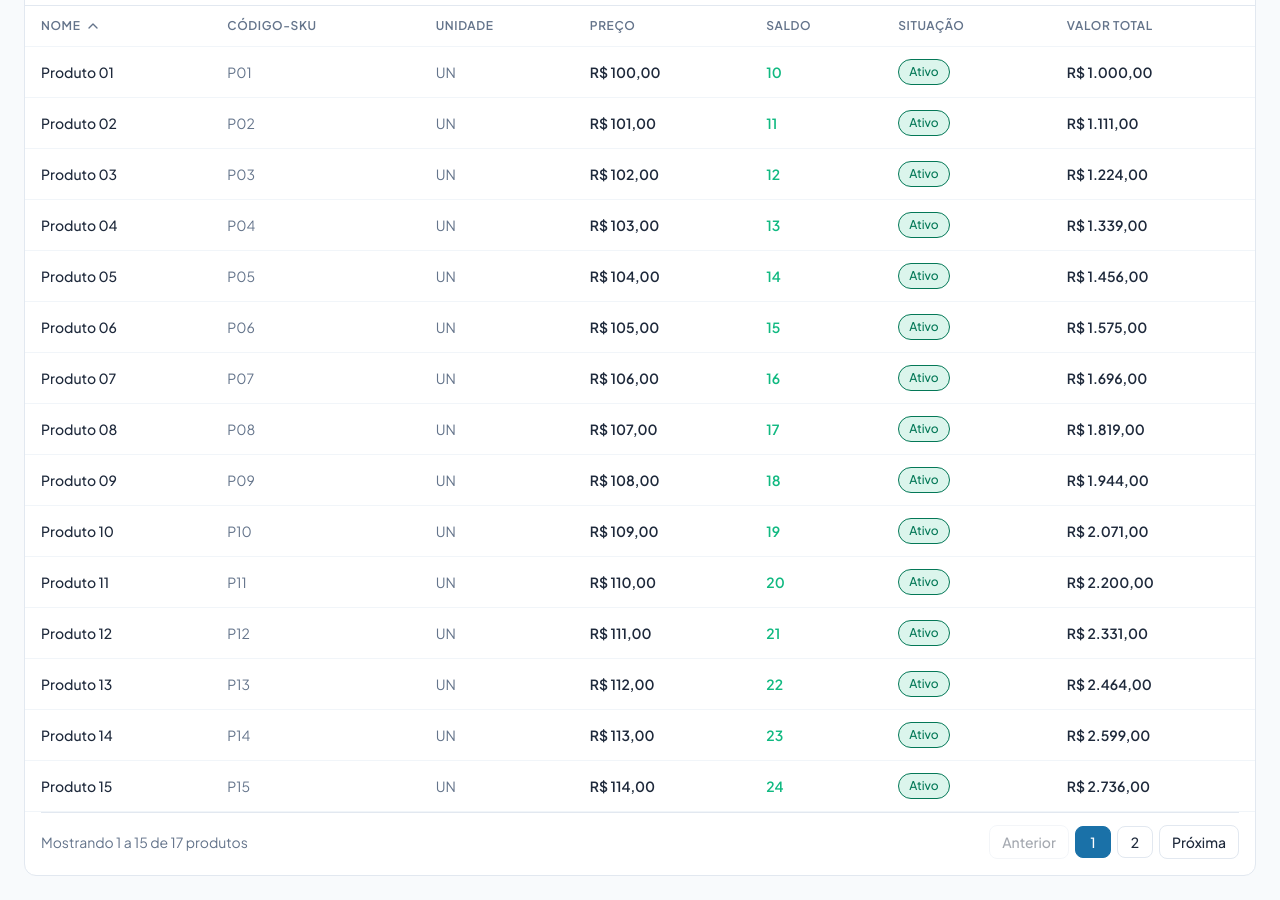
Test: paginacao em Estoque › Anterior volta para a primeira
(page scrolled)
Click the button "Próxima" at (1199, 842), box [1159,825,1239,859]
(page scrolled)
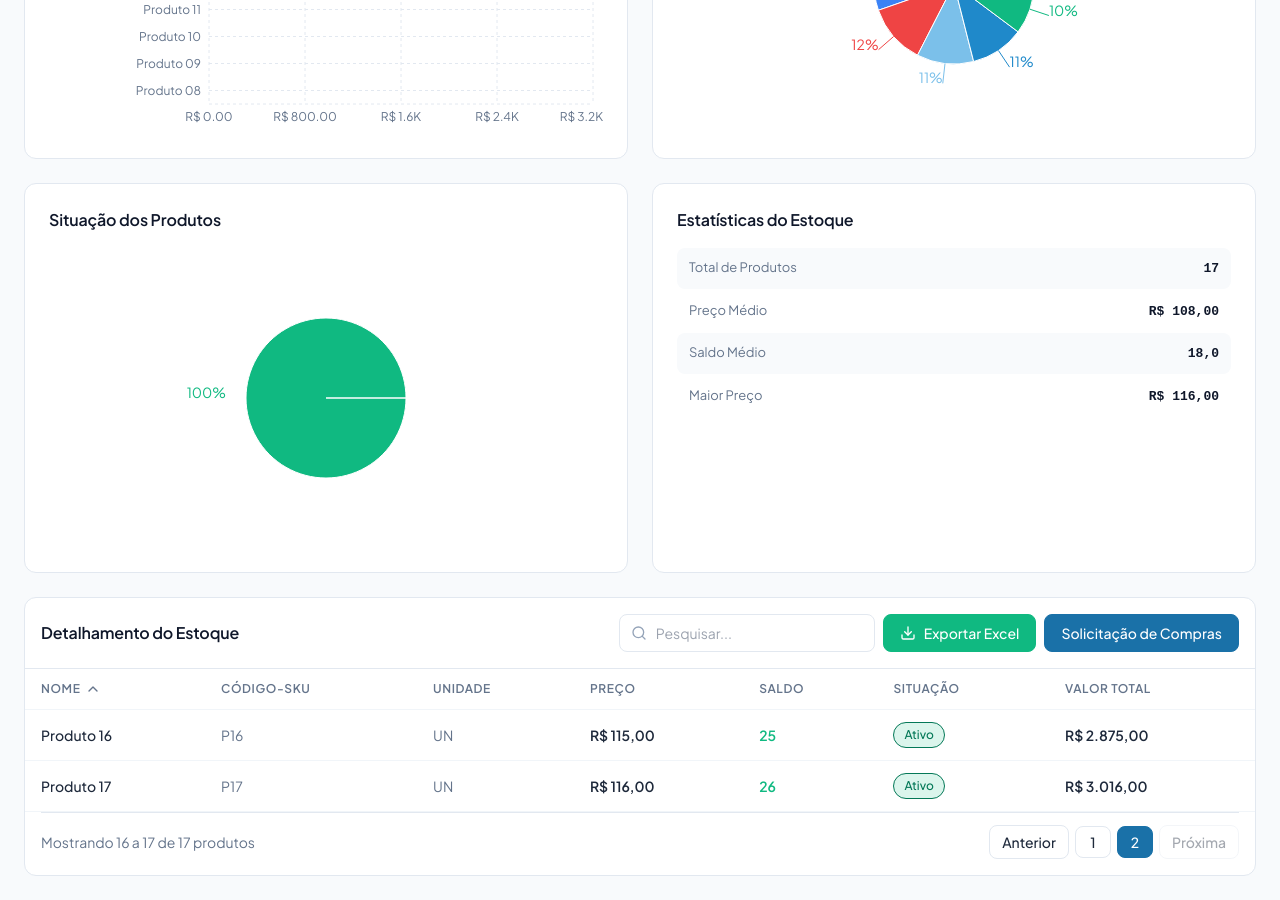
Click the button "Anterior" at (1029, 842), box [989,825,1069,859]
(page scrolled)
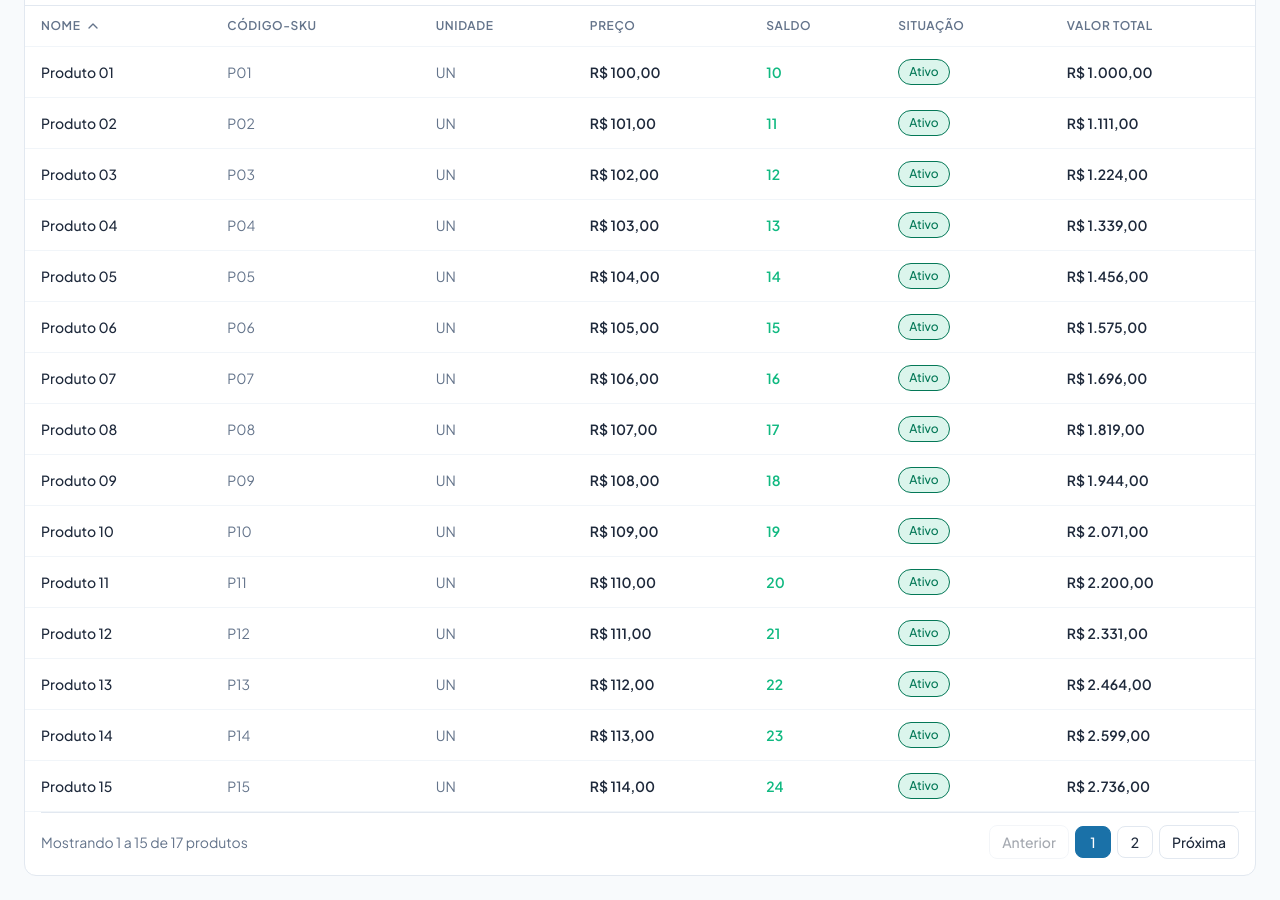
Result: the text "Mostrando 1 a 15 de 17 produtos" is shown at [41,832,248,852]
